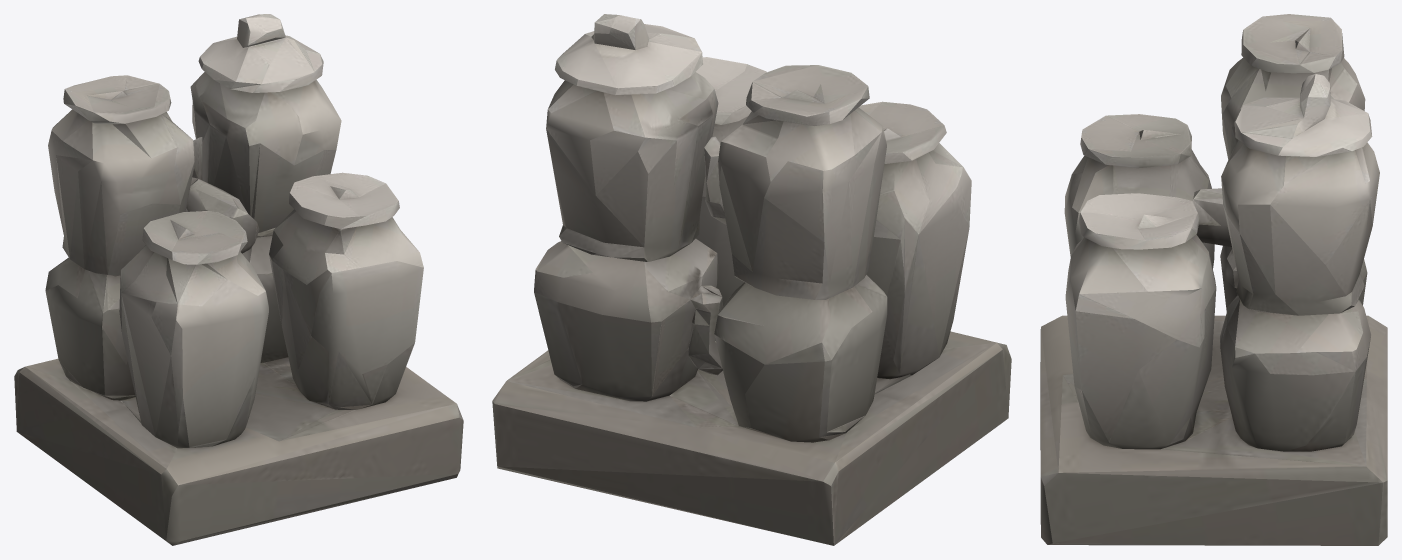
Rendered from ossuary_urns.glb.
3 renders of one model, left to right at view 1: azimuth 30°, elevation 25°; view 2: azimuth 150°, elevation 25°; view 3: azimuth 270°, elevation 25°, orthographic. The views are drawn at different scales.
Visible parts, largest first — view 1: Mesh_0; view 2: Mesh_0; view 3: Mesh_0.
Part boxes in pixels (x1,y1,x2,y2): Mesh_0: (14, 14, 463, 545); Mesh_0: (492, 14, 1011, 545); Mesh_0: (1040, 14, 1387, 545).
Size of the model in its own units: 1.5 by 1.9 by 1.41.
Materials: 1 (1 with a texture image).
